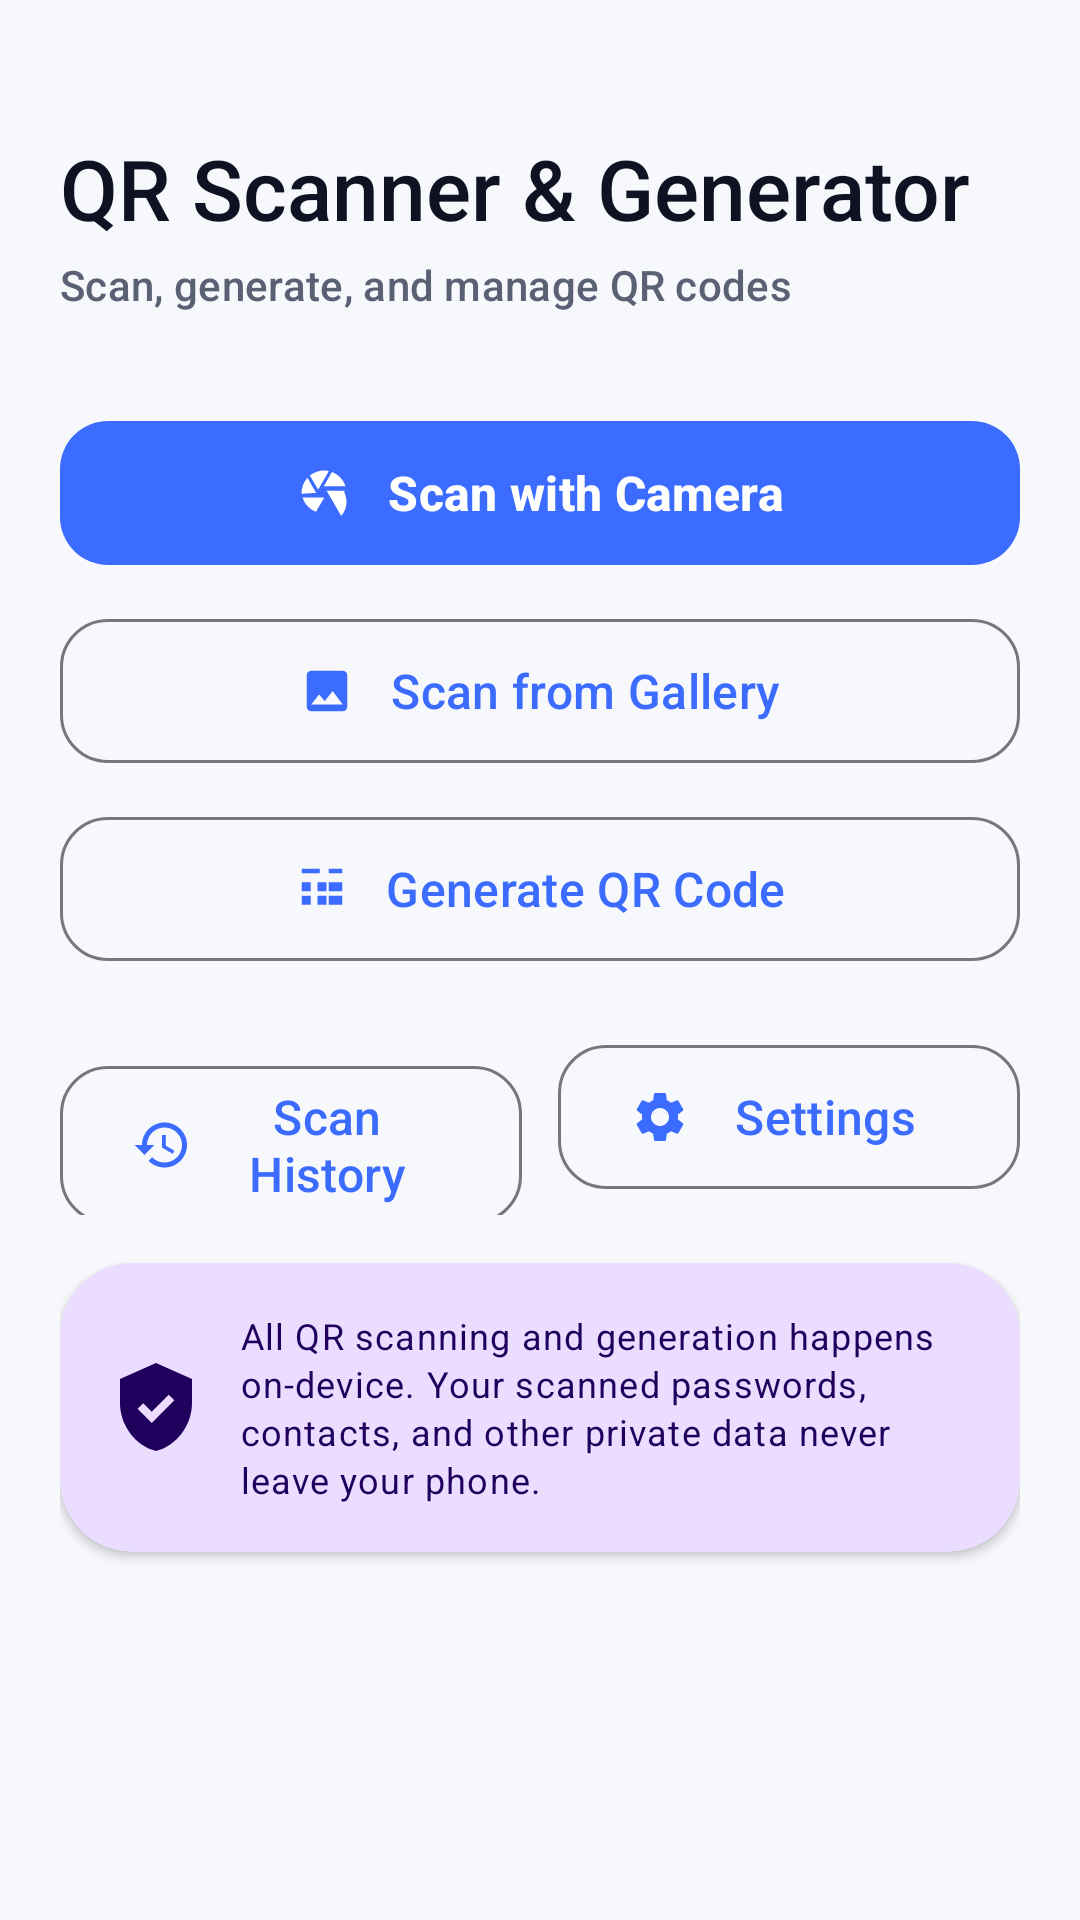

Where to tap for icons on this 1080*1920 app screen, as point (x, y):
Privacy: point (156, 1407)
